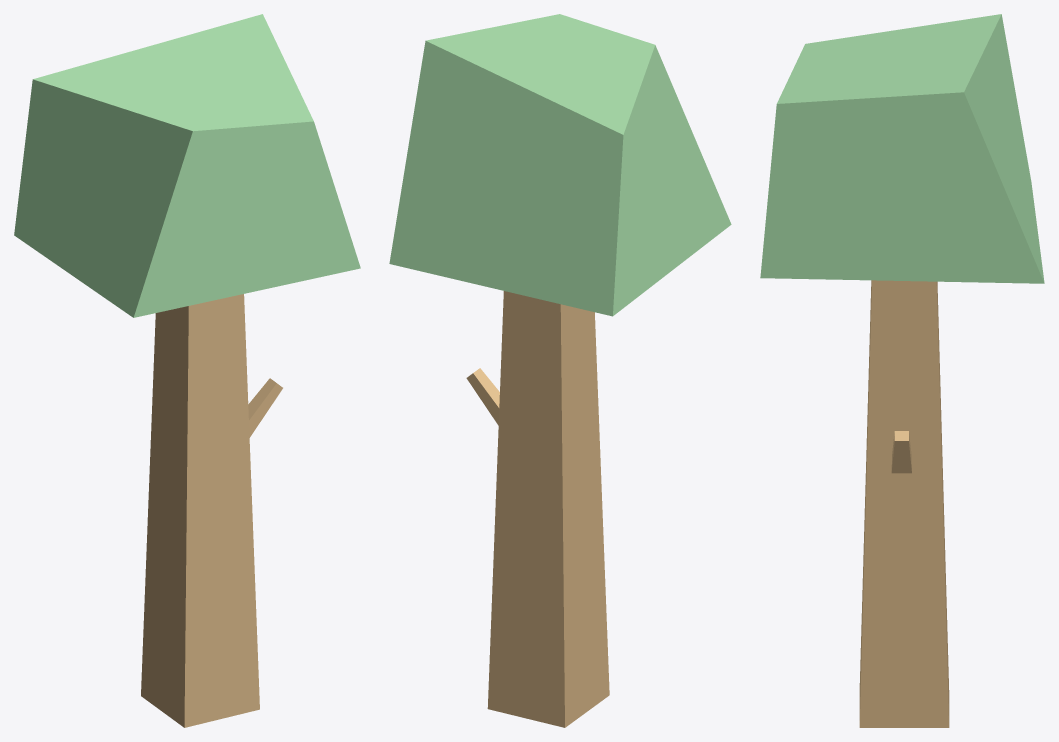
Rendered from tree3.fbx.
3 renders of one model, left to right at view 1: azimuth 30°, elevation 25°; view 2: azimuth 150°, elevation 25°; view 3: azimuth 270°, elevation 25°, orthographic. The views are drawn at different scales.
Parts seen in each view (by area): view 1: Cube.001, Cube, Cube.002; view 2: Cube.001, Cube, Cube.002; view 3: Cube.001, Cube, Cube.002.
Part boxes in pixels (<box>): Cube.001: <box>14,14,360,317</box>; Cube: <box>141,294,259,727</box>; Cube.002: <box>248,378,282,437</box>; Cube.001: <box>389,14,731,316</box>; Cube: <box>487,291,609,727</box>; Cube.002: <box>466,368,499,425</box>; Cube.001: <box>760,14,1044,283</box>; Cube: <box>859,280,949,727</box>; Cube.002: <box>891,431,911,473</box>.
Size of the model in its own units: 33.69 by 96.24 by 37.42.
